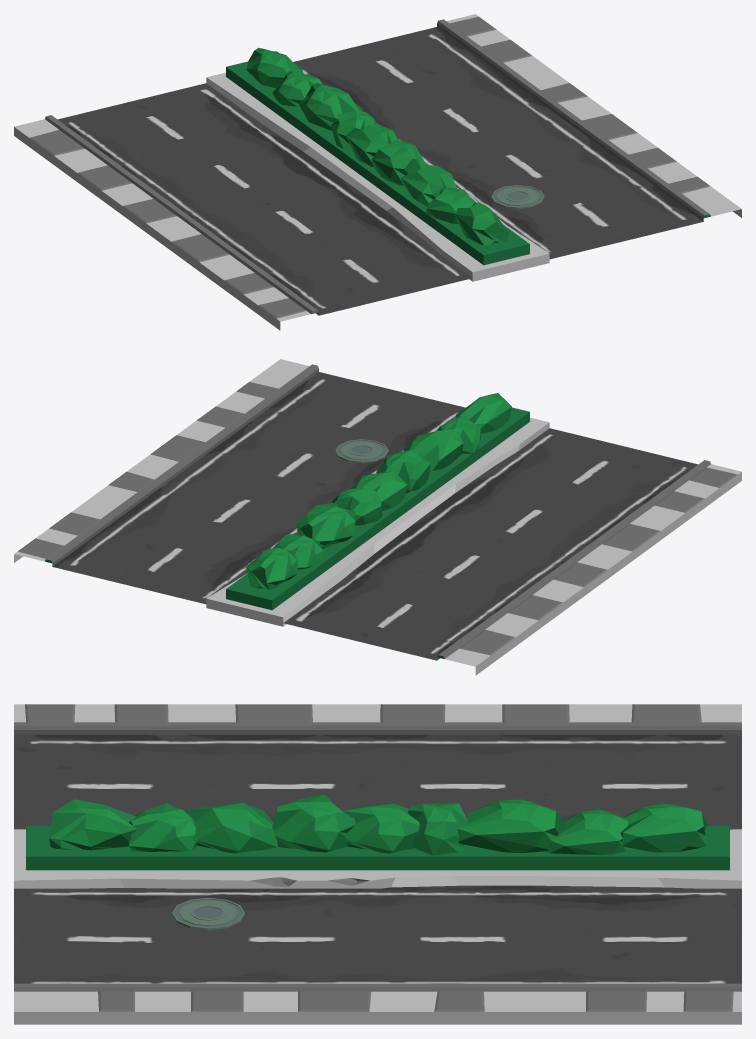
The model's file is Road_Wide_02.fbx.
The picture shows the model from 3 angles, top to bottom: view 1: azimuth 30°, elevation 25°; view 2: azimuth 150°, elevation 25°; view 3: azimuth 270°, elevation 25°; orthographic projection. The views are drawn at different scales.
Parts seen in each view (by area): view 1: Road_Wide_02; view 2: Road_Wide_02; view 3: Road_Wide_02.
Part boxes in pixels (x1=…): Road_Wide_02: x1=14, y1=14, x2=741, y2=330; Road_Wide_02: x1=14, y1=359, x2=741, y2=675; Road_Wide_02: x1=14, y1=704, x2=741, y2=1024.
Bounding box in the file's own units: 2400 × 248 × 2400.
